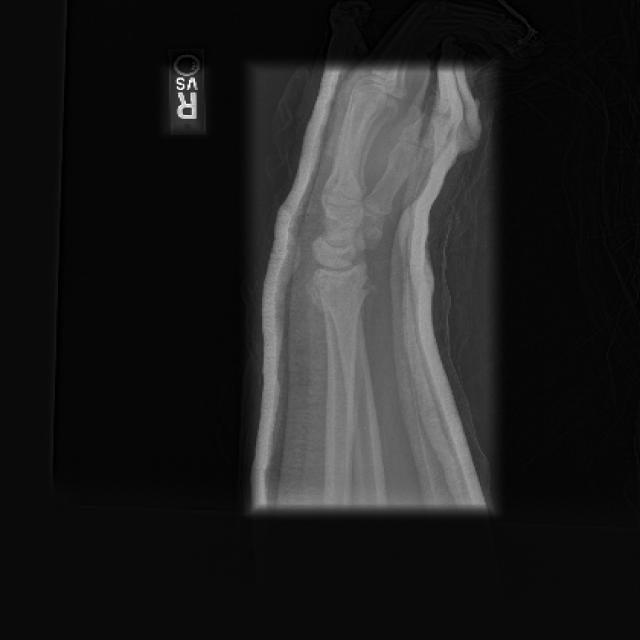fingers positive: (299, 269, 384, 314)
